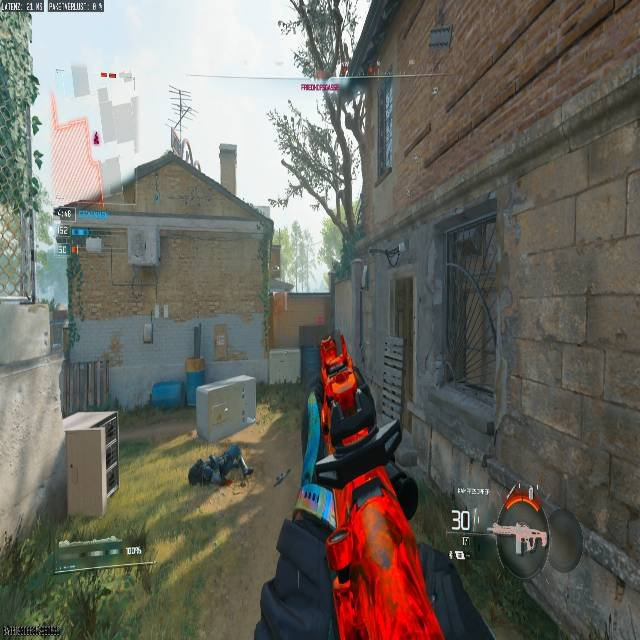player: (188, 443, 252, 484)
